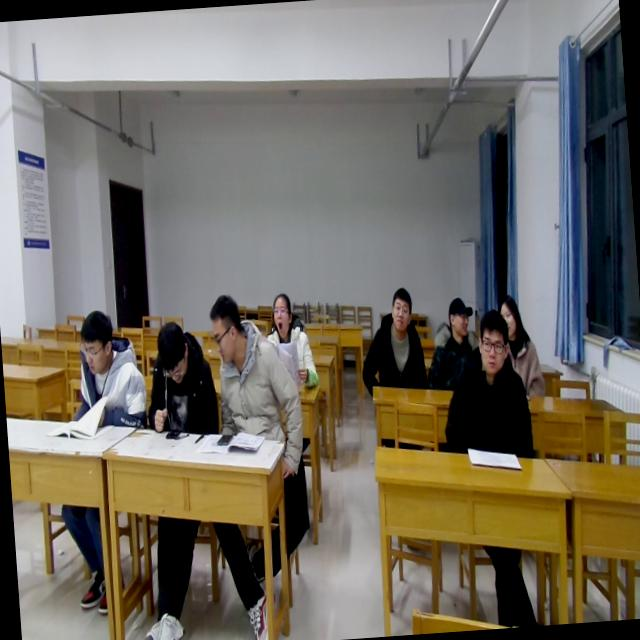down: (72, 302, 120, 376), (150, 313, 193, 387)
lookup: (472, 306, 509, 378), (266, 288, 297, 344), (384, 283, 416, 337), (496, 288, 525, 336)
sit: (434, 306, 536, 461), (206, 287, 306, 440), (65, 308, 148, 434), (140, 320, 218, 438), (356, 282, 428, 394), (422, 295, 484, 393), (264, 287, 318, 390), (496, 291, 546, 402)
